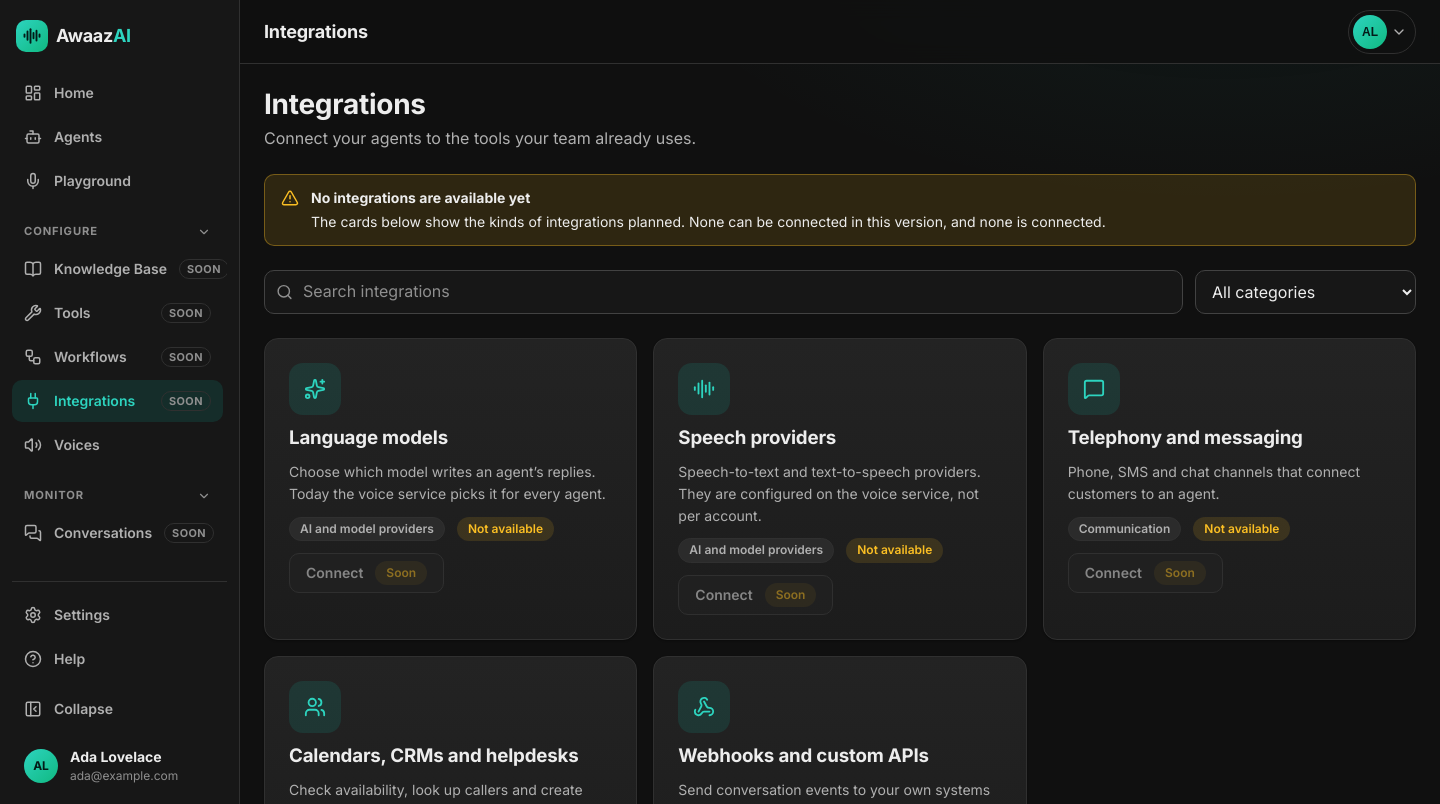
features without a backend › integration search and category filter change the cards
Select "AI and model providers" in the dropdown named "Filter by category" at [1306, 292], box [1195,270,1416,314]
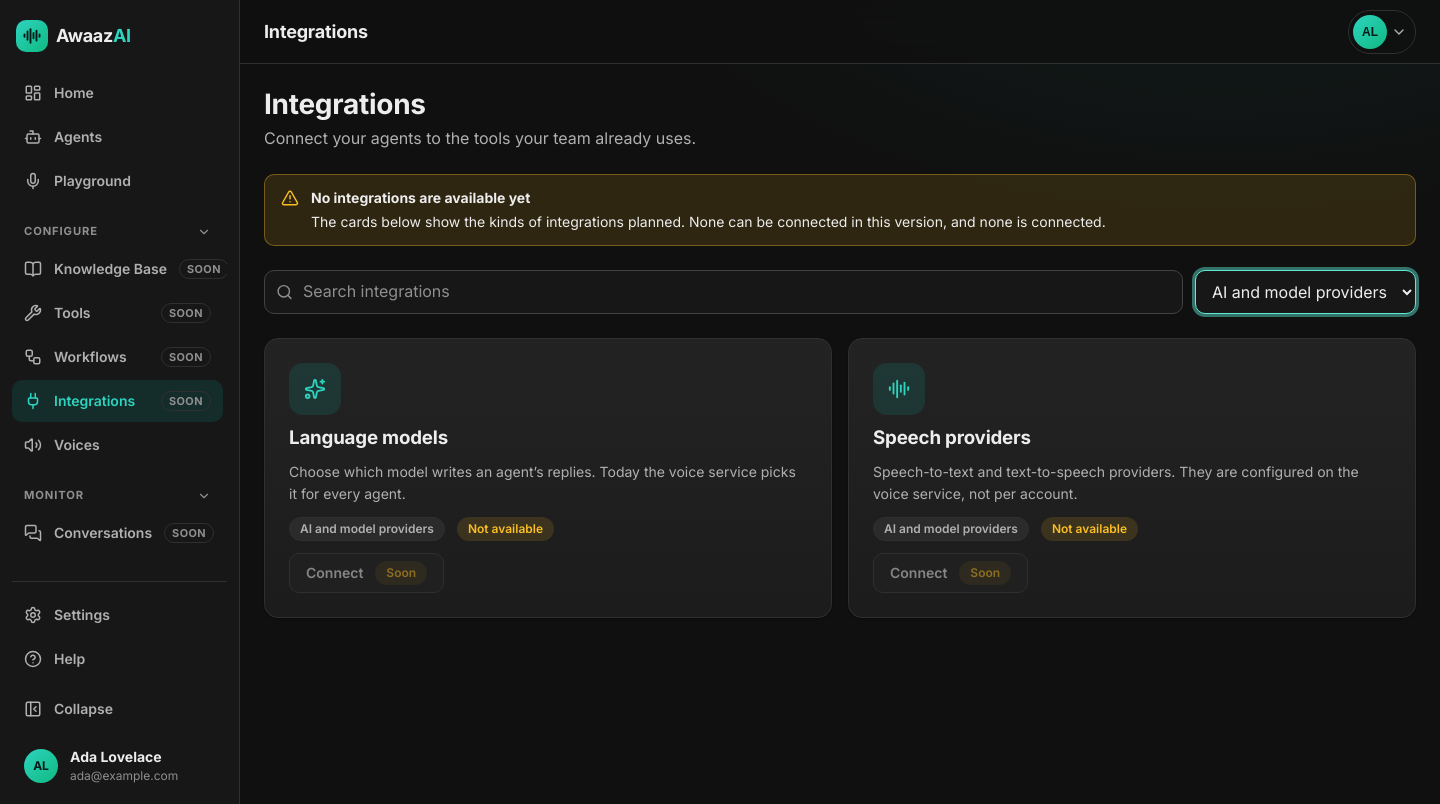
Select "Custom APIs" in the dropdown named "Filter by category" at [1306, 292], box [1195,270,1416,314]
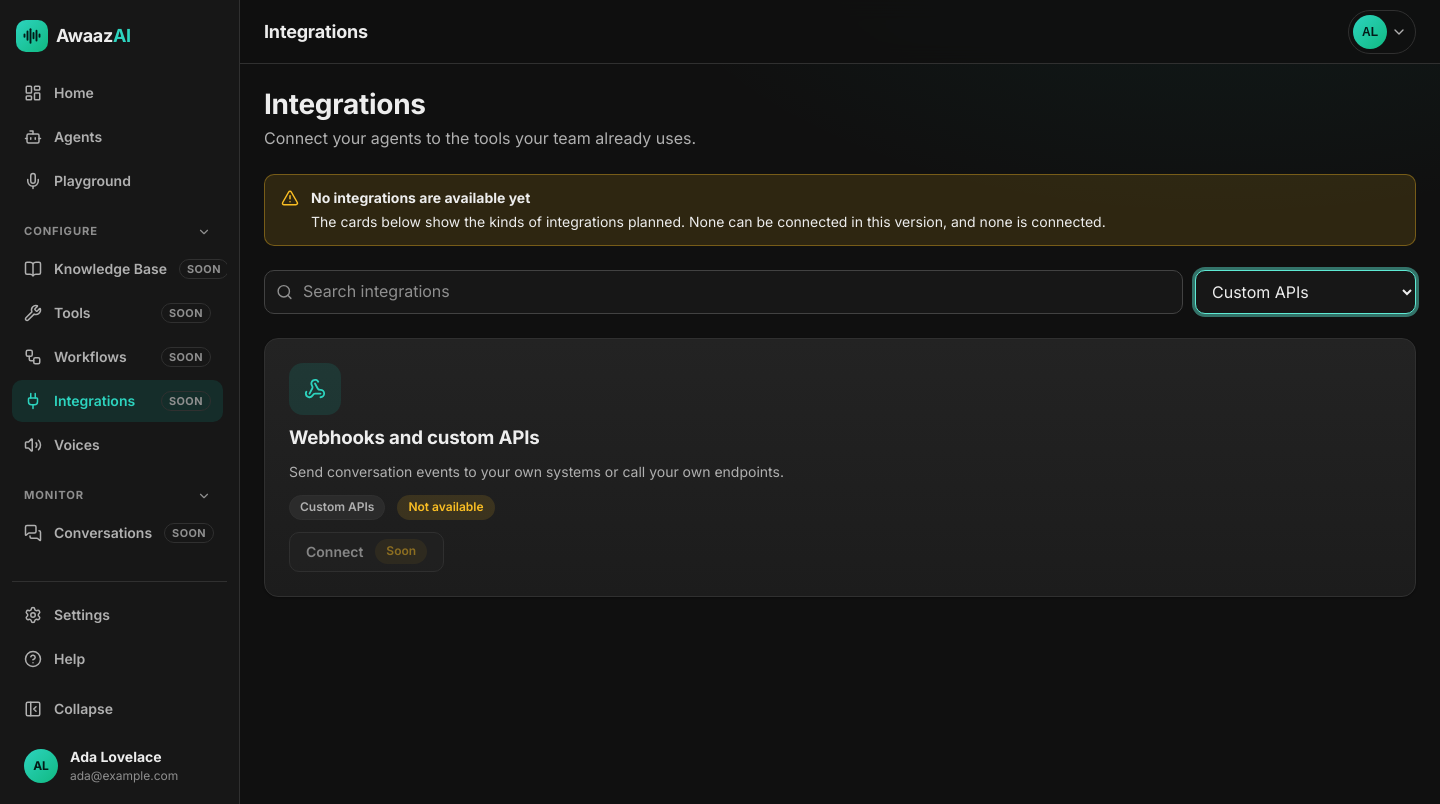
Select "All categories" in the dropdown named "Filter by category" at [1306, 292], box [1195,270,1416,314]
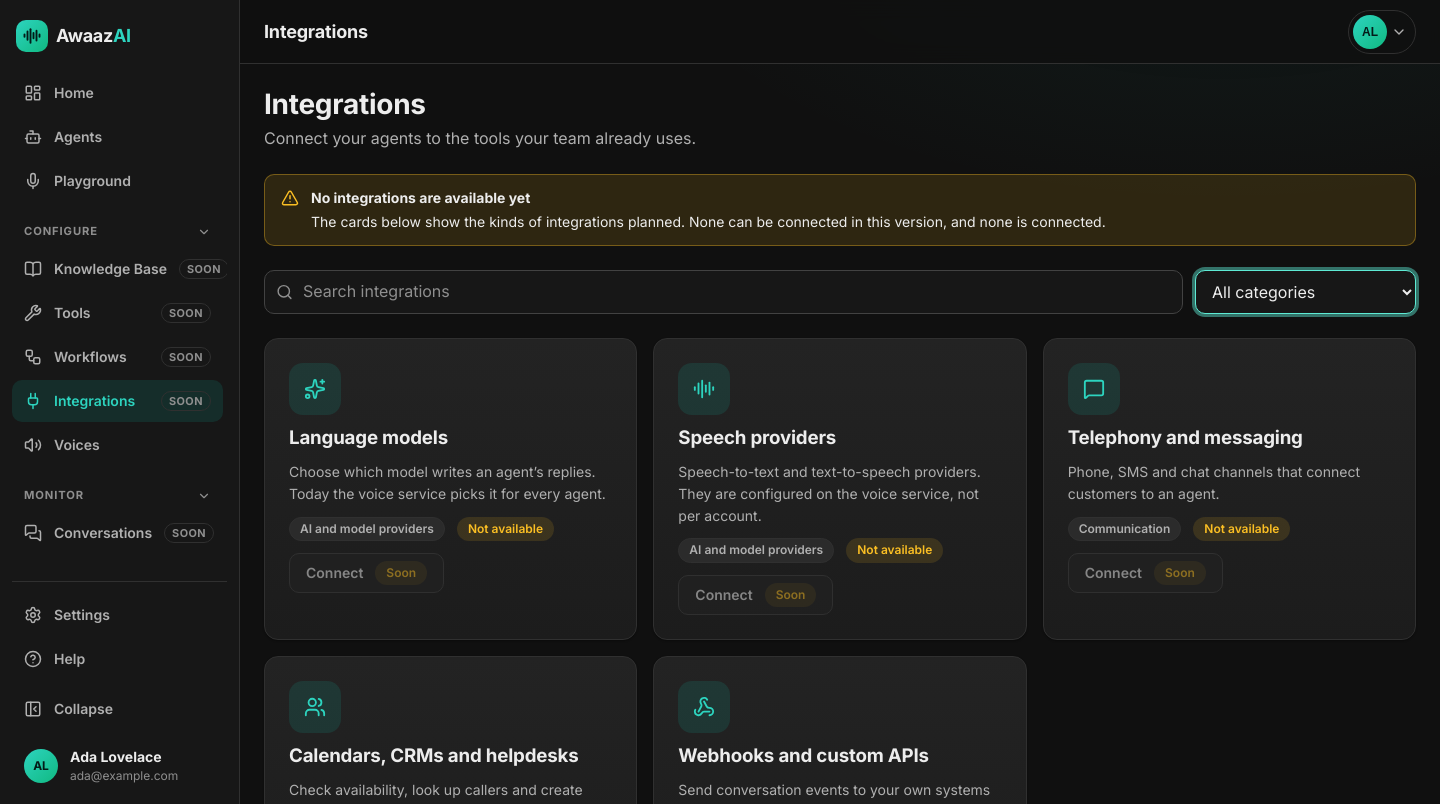
Type "zzz" into the search field labelled "Search integrations".
click(724, 292); type("zzz")  # box [264,270,1183,314]
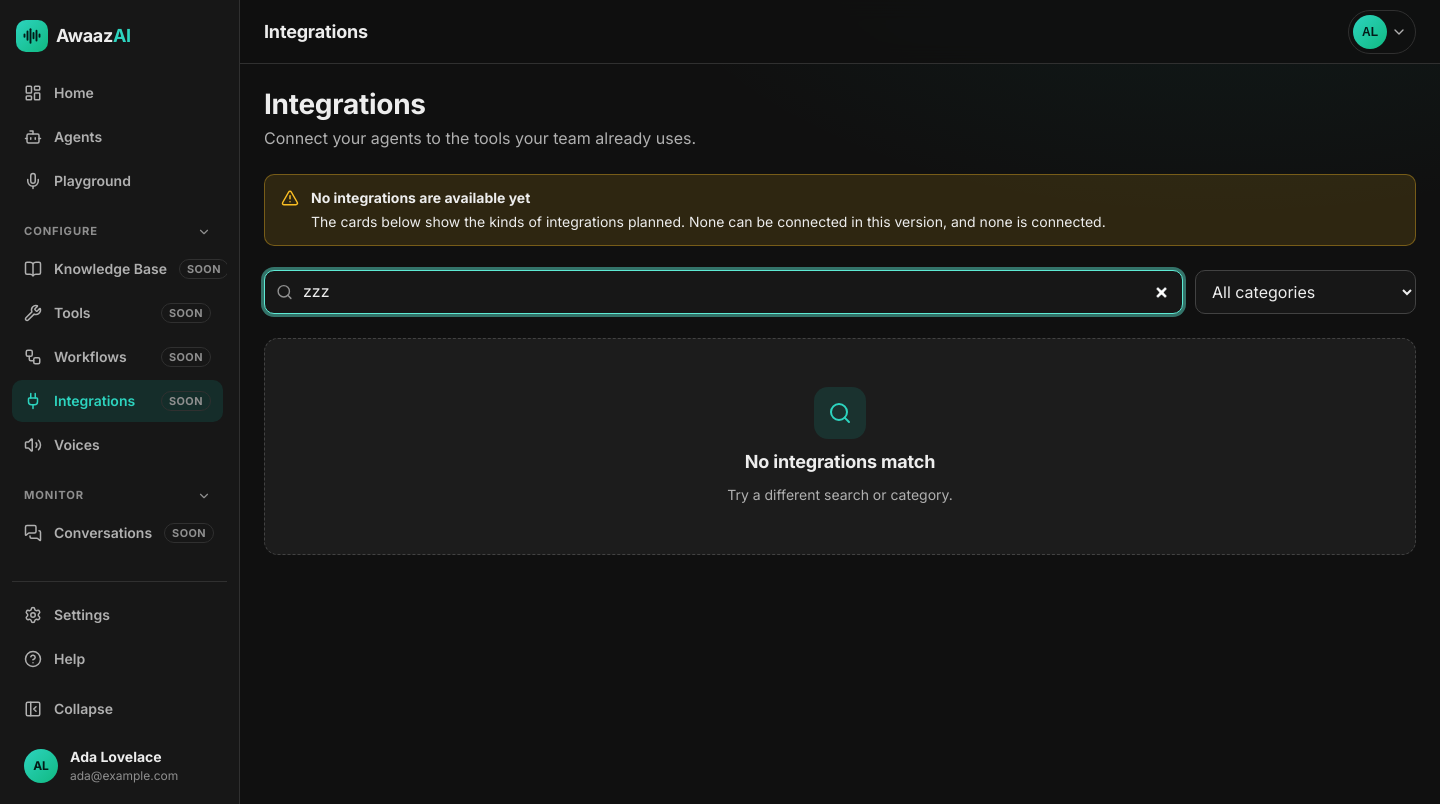
Check: the heading "No integrations match" is shown, box [745,451,935,472]
